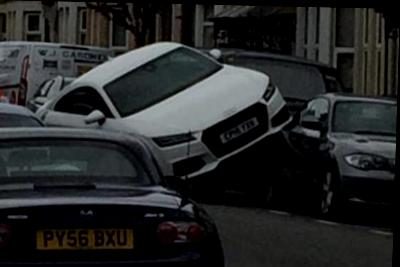License_Plate: (30, 225, 138, 251)
